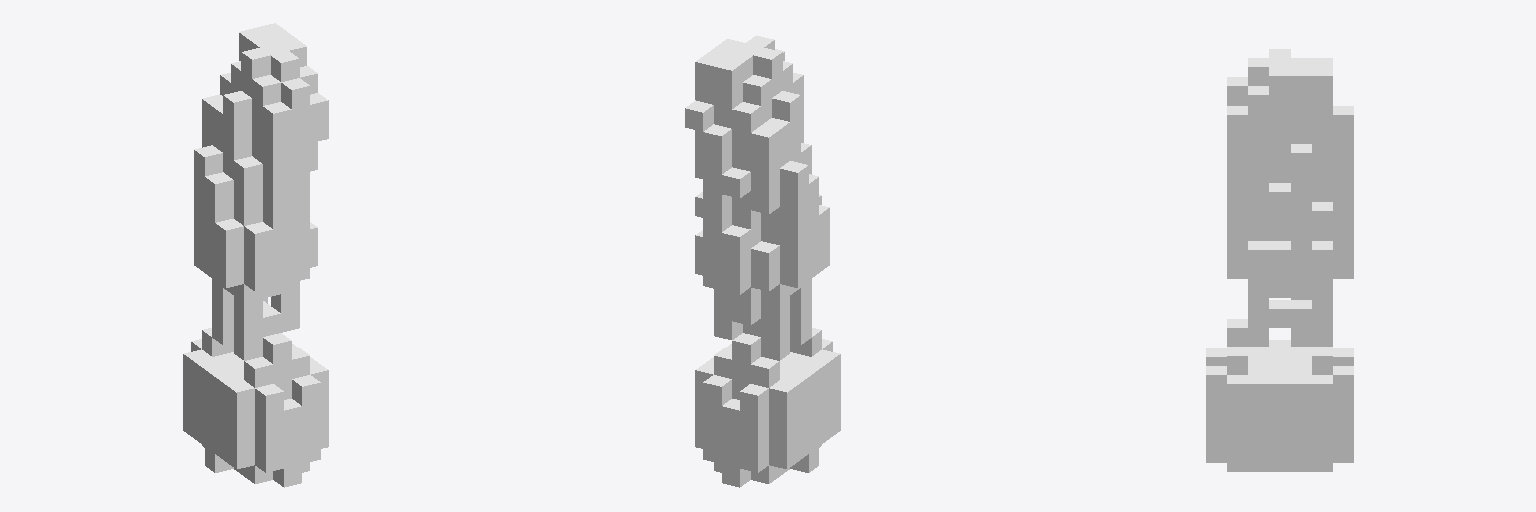
The model's file is vrach-0-5.obj.
3 views of the same model, side by side, from view 1: azimuth 30°, elevation 25°; view 2: azimuth 150°, elevation 25°; view 3: azimuth 270°, elevation 25° (orthographic).
Visible parts, largest first — view 1: object 1; view 2: object 1; view 3: object 1.
Boxes of the visible parts, box(x1,y1,x2,y2) form: object 1: box(183, 23, 328, 487); object 1: box(685, 35, 840, 487); object 1: box(1206, 49, 1353, 471).
Size of the model in its own units: 0.5 by 2.1 by 0.7.